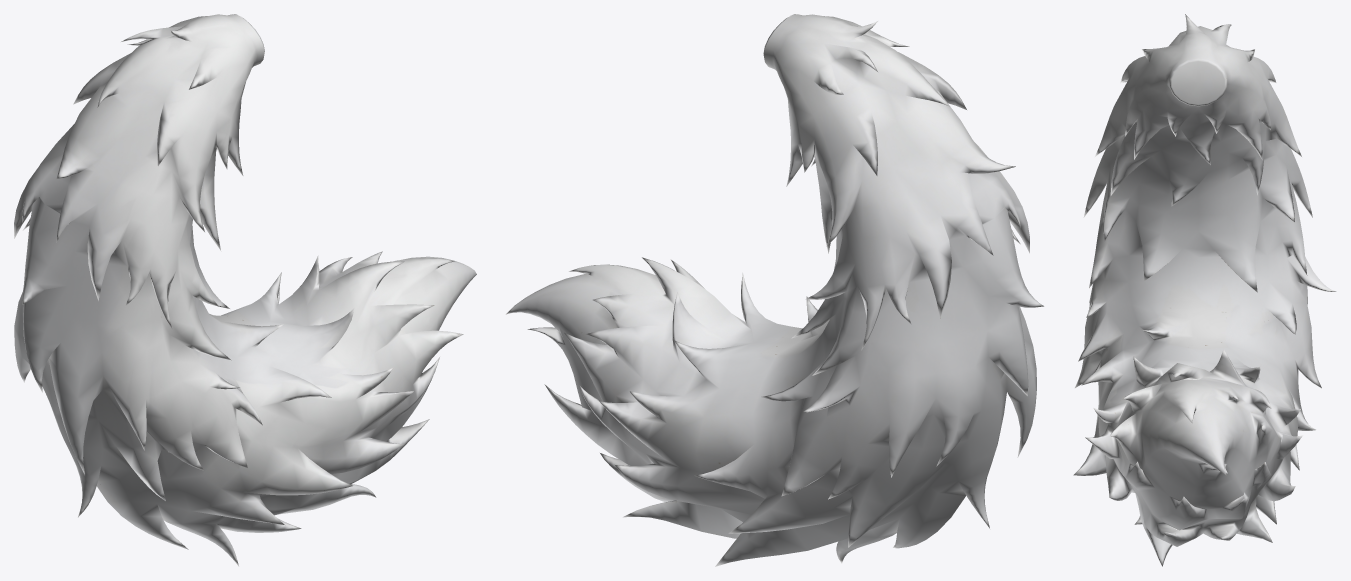
The model's file is wolf_scout_tail_textured.fbx.
The picture shows the model from 3 angles, left to right: view 1: azimuth 30°, elevation 25°; view 2: azimuth 150°, elevation 25°; view 3: azimuth 270°, elevation 25°; orthographic projection. The views are drawn at different scales.
Parts seen in each view (by area): view 1: ce2f7f51_d3bd_48b1_bf9e_95d5fc06df97; view 2: ce2f7f51_d3bd_48b1_bf9e_95d5fc06df97; view 3: ce2f7f51_d3bd_48b1_bf9e_95d5fc06df97.
Part boxes in pixels (x1,y1,x2,y2): ce2f7f51_d3bd_48b1_bf9e_95d5fc06df97: (14,14,476,566); ce2f7f51_d3bd_48b1_bf9e_95d5fc06df97: (506,14,1043,566); ce2f7f51_d3bd_48b1_bf9e_95d5fc06df97: (1073,14,1336,566).
Bounding box in the file's own units: 0.938 × 0.9995 × 0.4829.
Materials: 1 (1 with a texture image).
